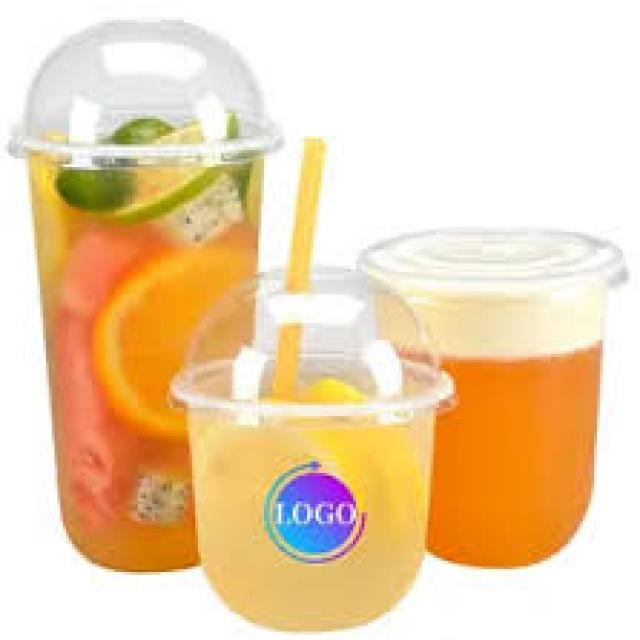cup: (34, 146, 265, 569), (365, 229, 625, 566), (171, 348, 454, 628)
